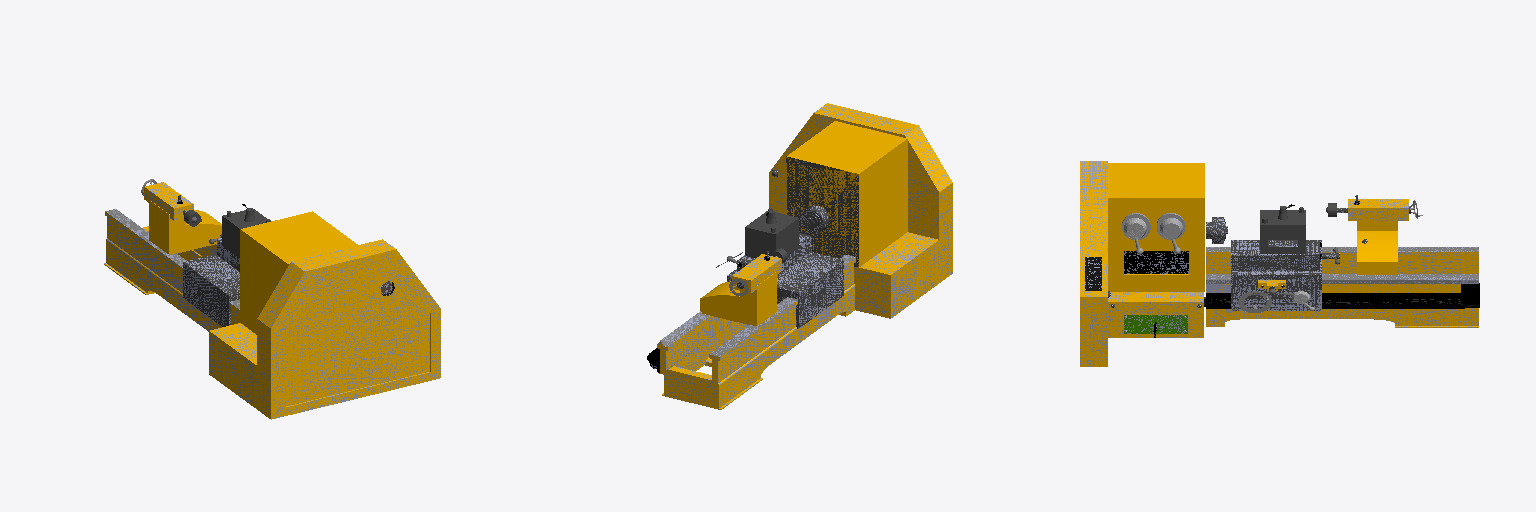
Rendered from maquina_001.obj.
The picture shows the model from 3 angles: view 1: azimuth 30°, elevation 25°; view 2: azimuth 150°, elevation 25°; view 3: azimuth 270°, elevation 25°; orthographic projection.
Visible parts, largest first — view 1: Mesh158 Group46 Group1 Model, Mesh194 Group60 Group53 Group1 Model, Mesh218 Group64 Group63 Group1 Model, Mesh222 Group1 Model, Mesh49 Group3 Group1 Model, Mesh71 Group26 Group25 Group24 Group1 Model, Mesh104 Group27 Group24 Group1 Model, Mesh120 Group36 Group1 Model; view 2: Mesh194 Group60 Group53 Group1 Model, Mesh218 Group64 Group63 Group1 Model, Mesh158 Group46 Group1 Model, Mesh222 Group1 Model, Mesh49 Group3 Group1 Model, Mesh71 Group26 Group25 Group24 Group1 Model, Mesh220 Group63 Group1 Model, Mesh120 Group36 Group1 Model, Mesh104 Group27 Group24 Group1 Model, Mesh199 Group61 Group53 Group1 Model, Mesh149 Group39 Group1 Model; view 3: Mesh194 Group60 Group53 Group1 Model, Mesh218 Group64 Group63 Group1 Model, Mesh158 Group46 Group1 Model, Mesh222 Group1 Model, Mesh220 Group63 Group1 Model, Mesh49 Group3 Group1 Model, Mesh149 Group39 Group1 Model, Mesh71 Group26 Group25 Group24 Group1 Model, Mesh120 Group36 Group1 Model, Mesh216 Group62 Group1 Model, Mesh173 Group50 Group1 Model, Mesh104 Group27 Group24 Group1 Model (+1 smaller).
Part boxes in pixels (bbox=[...]): Mesh158 Group46 Group1 Model: bbox=[257, 239, 440, 419]; Mesh194 Group60 Group53 Group1 Model: bbox=[240, 211, 357, 334]; Mesh218 Group64 Group63 Group1 Model: bbox=[104, 209, 239, 331]; Mesh222 Group1 Model: bbox=[209, 323, 256, 408]; Mesh49 Group3 Group1 Model: bbox=[183, 254, 239, 326]; Mesh71 Group26 Group25 Group24 Group1 Model: bbox=[149, 200, 221, 254]; Mesh104 Group27 Group24 Group1 Model: bbox=[144, 182, 193, 220]; Mesh120 Group36 Group1 Model: bbox=[222, 208, 270, 257]; Mesh194 Group60 Group53 Group1 Model: bbox=[786, 121, 907, 267]; Mesh218 Group64 Group63 Group1 Model: bbox=[662, 255, 855, 409]; Mesh158 Group46 Group1 Model: bbox=[769, 103, 952, 282]; Mesh222 Group1 Model: bbox=[854, 232, 938, 318]; Mesh49 Group3 Group1 Model: bbox=[727, 252, 843, 328]; Mesh71 Group26 Group25 Group24 Group1 Model: bbox=[700, 272, 776, 325]; Mesh220 Group63 Group1 Model: bbox=[657, 311, 737, 374]; Mesh120 Group36 Group1 Model: bbox=[745, 208, 798, 258]; Mesh104 Group27 Group24 Group1 Model: bbox=[732, 253, 781, 292]; Mesh199 Group61 Group53 Group1 Model: bbox=[800, 205, 829, 233]; Mesh149 Group39 Group1 Model: bbox=[737, 233, 811, 276]; Mesh194 Group60 Group53 Group1 Model: bbox=[1108, 163, 1204, 291]; Mesh218 Group64 Group63 Group1 Model: bbox=[1206, 247, 1478, 327]; Mesh158 Group46 Group1 Model: bbox=[1080, 161, 1107, 366]; Mesh222 Group1 Model: bbox=[1108, 274, 1203, 337]; Mesh220 Group63 Group1 Model: bbox=[1206, 274, 1478, 292]; Mesh49 Group3 Group1 Model: bbox=[1231, 240, 1321, 310]; Mesh149 Group39 Group1 Model: bbox=[1231, 240, 1339, 270]; Mesh71 Group26 Group25 Group24 Group1 Model: bbox=[1357, 221, 1397, 274]; Mesh120 Group36 Group1 Model: bbox=[1260, 207, 1305, 253]; Mesh216 Group62 Group1 Model: bbox=[1206, 293, 1464, 308]; Mesh173 Group50 Group1 Model: bbox=[1124, 251, 1188, 273]; Mesh104 Group27 Group24 Group1 Model: bbox=[1337, 197, 1410, 220].
Bounding box in the file's own units: 39.04 × 30.72 × 79.5.